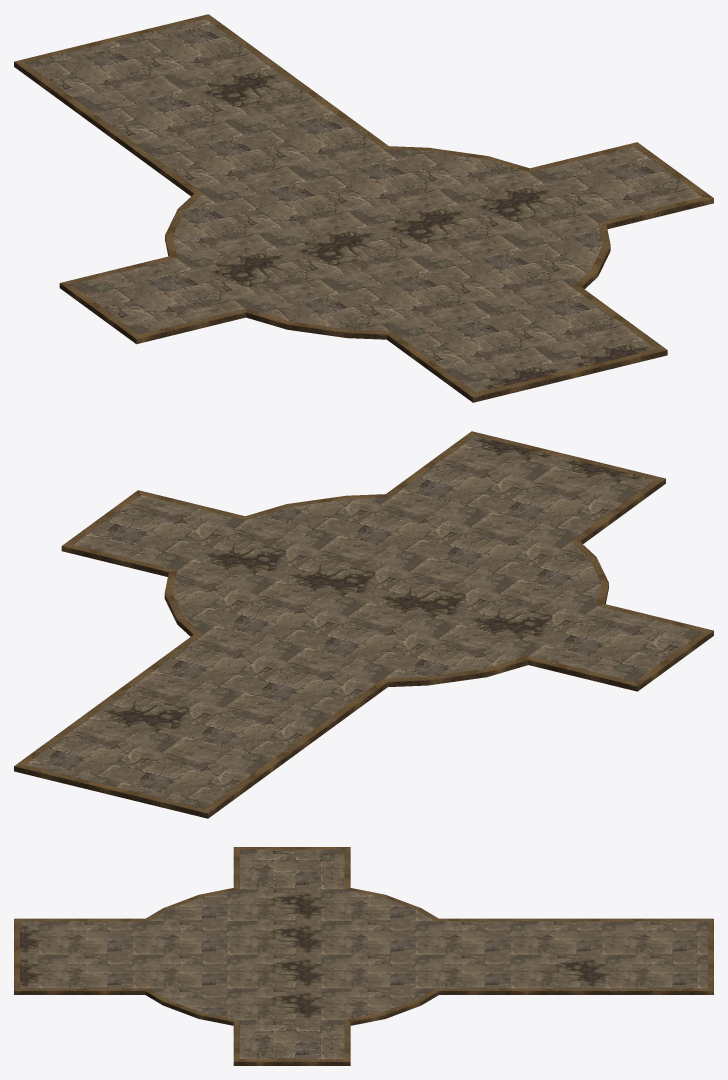
Rendered from blsd_taizi_01.FBX.
3 views of the same model, one above another, from view 1: azimuth 30°, elevation 25°; view 2: azimuth 150°, elevation 25°; view 3: azimuth 270°, elevation 25° (orthographic). The views are drawn at different scales.
Visible parts, largest first — view 1: blsd_taizi_01; view 2: blsd_taizi_01; view 3: blsd_taizi_01.
Part boxes in pixels (box(x1,y1,x2,y2)): blsd_taizi_01: box(14, 14, 713, 402); blsd_taizi_01: box(14, 431, 713, 818); blsd_taizi_01: box(14, 847, 713, 1065).
Bounding box in the file's own units: 2130 × 2933 × 18.28.
